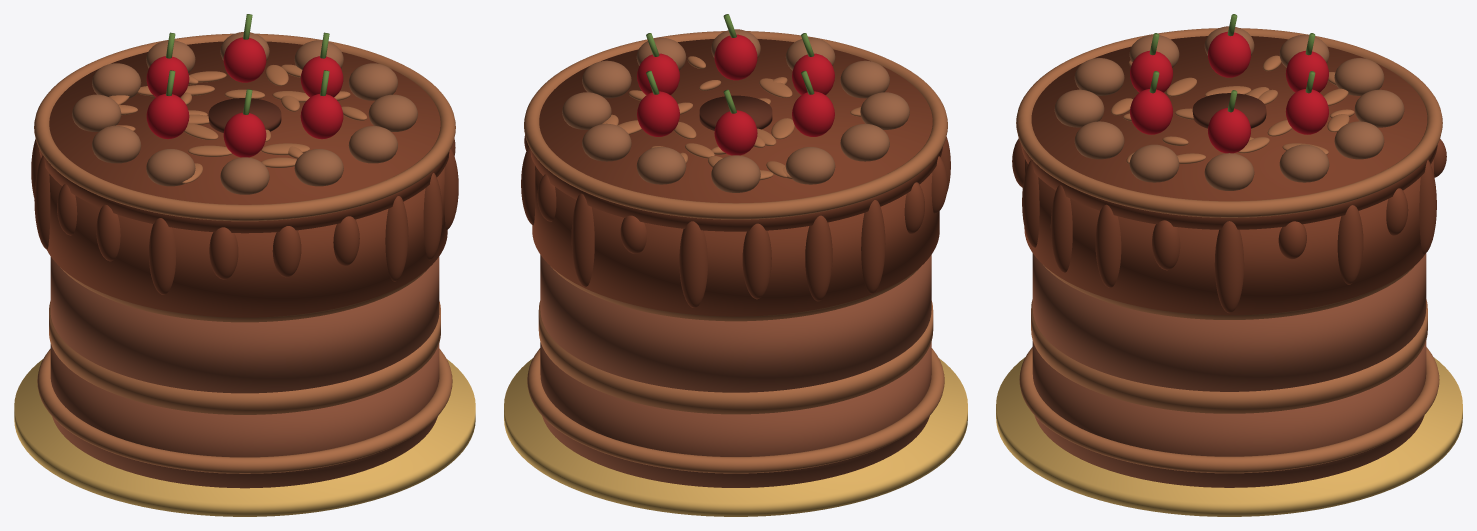
Rendered from Pastel-Choco.glb.
3 views of the same model, side by side, from view 1: azimuth 30°, elevation 25°; view 2: azimuth 150°, elevation 25°; view 3: azimuth 270°, elevation 25° (orthographic).
Visible parts, largest first — view 1: Bizcocho intermedio, Cubierta superior de chocolate, Cobertura lateral de ganache, Bizcocho inferior, Base de cartón dorado, Borde superior de chocolate, Relleno de chocolate inferior, Borde de chocolate inferior, Relleno de chocolate superior, Gota de ganache.012, Gota de ganache.016, Cereza decorativa.001 (+25 smaller); view 2: Cubierta superior de chocolate, Bizcocho intermedio, Cobertura lateral de ganache, Bizcocho inferior, Base de cartón dorado, Borde superior de chocolate, Relleno de chocolate inferior, Borde de chocolate inferior, Gota de ganache.006, Gota de ganache.008, Gota de ganache.009, Gota de ganache.007 (+25 smaller); view 3: Bizcocho intermedio, Cubierta superior de chocolate, Cobertura lateral de ganache, Bizcocho inferior, Base de cartón dorado, Borde superior de chocolate, Relleno de chocolate inferior, Borde de chocolate inferior, Gota de ganache, Gota de ganache.018, Relleno de chocolate superior, Gota de ganache.002 (+24 smaller).
Boxes of the visible parts, x1,y1,x2,y2 form: Bizcocho intermedio: [50, 256, 439, 393]; Cubierta superior de chocolate: [39, 41, 449, 233]; Cobertura lateral de ganache: [47, 167, 447, 317]; Bizcocho inferior: [50, 344, 439, 488]; Base de cartón dorado: [14, 359, 475, 516]; Borde superior de chocolate: [34, 33, 455, 221]; Relleno de chocolate inferior: [49, 301, 440, 414]; Borde de chocolate inferior: [37, 348, 452, 473]; Relleno de chocolate superior: [60, 267, 429, 322]; Gota de ganache.012: [148, 218, 176, 294]; Gota de ganache.016: [385, 196, 408, 281]; Cereza decorativa.001: [223, 37, 266, 82]; Cubierta superior de chocolate: [530, 39, 942, 231]; Bizcocho intermedio: [540, 255, 931, 392]; Cobertura lateral de ganache: [532, 165, 939, 316]; Bizcocho inferior: [540, 342, 931, 487]; Base de cartón dorado: [504, 358, 967, 516]; Borde superior de chocolate: [524, 31, 947, 219]; Relleno de chocolate inferior: [538, 301, 933, 414]; Borde de chocolate inferior: [527, 348, 944, 473]; Gota de ganache.006: [679, 221, 707, 307]; Gota de ganache.008: [805, 215, 832, 301]; Gota de ganache.009: [861, 200, 885, 294]; Gota de ganache.007: [742, 223, 771, 299]; Bizcocho intermedio: [1032, 253, 1426, 391]; Cubierta superior de chocolate: [1021, 36, 1437, 229]; Cobertura lateral de ganache: [1024, 159, 1434, 315]; Bizcocho inferior: [1032, 341, 1426, 487]; Base de cartón dorado: [996, 357, 1462, 516]; Borde superior de chocolate: [1016, 28, 1442, 217]; Relleno de chocolate inferior: [1031, 299, 1427, 413]; Borde de chocolate inferior: [1019, 347, 1439, 473]; Gota de ganache: [1214, 221, 1244, 313]; Gota de ganache.018: [1095, 204, 1121, 287]; Relleno de chocolate superior: [1043, 265, 1415, 319]; Gota de ganache.002: [1337, 205, 1363, 284].
Size of the model in its own units: 1.4 by 1.22 by 1.4.
